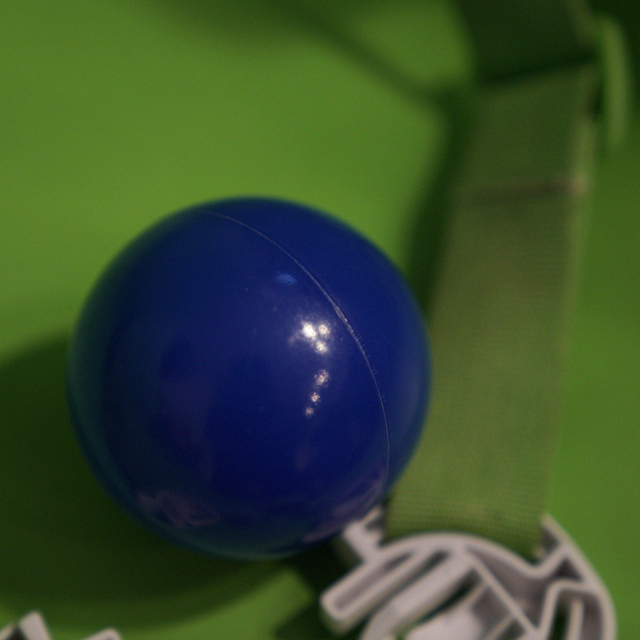Ball: (67, 191, 432, 555)
